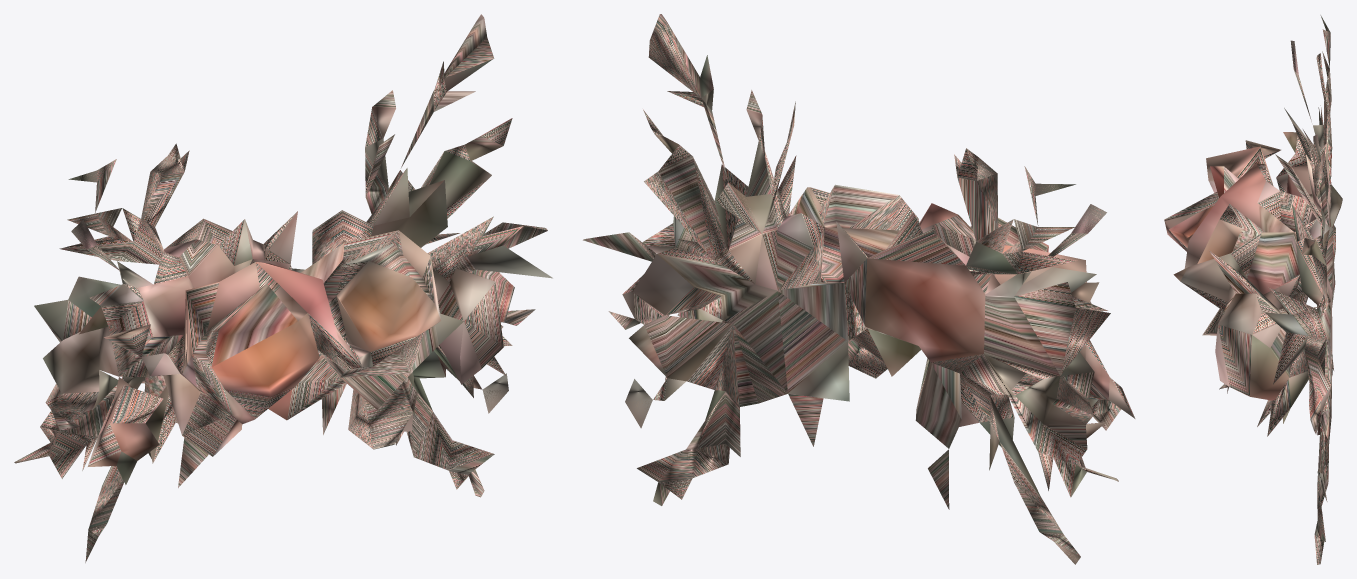
The picture shows the model from 3 angles, left to right: view 1: azimuth 30°, elevation 25°; view 2: azimuth 150°, elevation 25°; view 3: azimuth 270°, elevation 25°; orthographic projection. The views are drawn at different scales.
Parts seen in each view (by area): view 1: Rose-Spray-9-09; view 2: Rose-Spray-9-09; view 3: Rose-Spray-9-09.
Boxes of the visible parts, x1=… form: Rose-Spray-9-09: x1=14, y1=14, x2=552, y2=562; Rose-Spray-9-09: x1=583, y1=14, x2=1135, y2=564; Rose-Spray-9-09: x1=1164, y1=15, x2=1342, y2=564.
Bounding box in the file's own units: 0.3507 × 0.3055 × 0.1147.
1 material, 1 textured.
